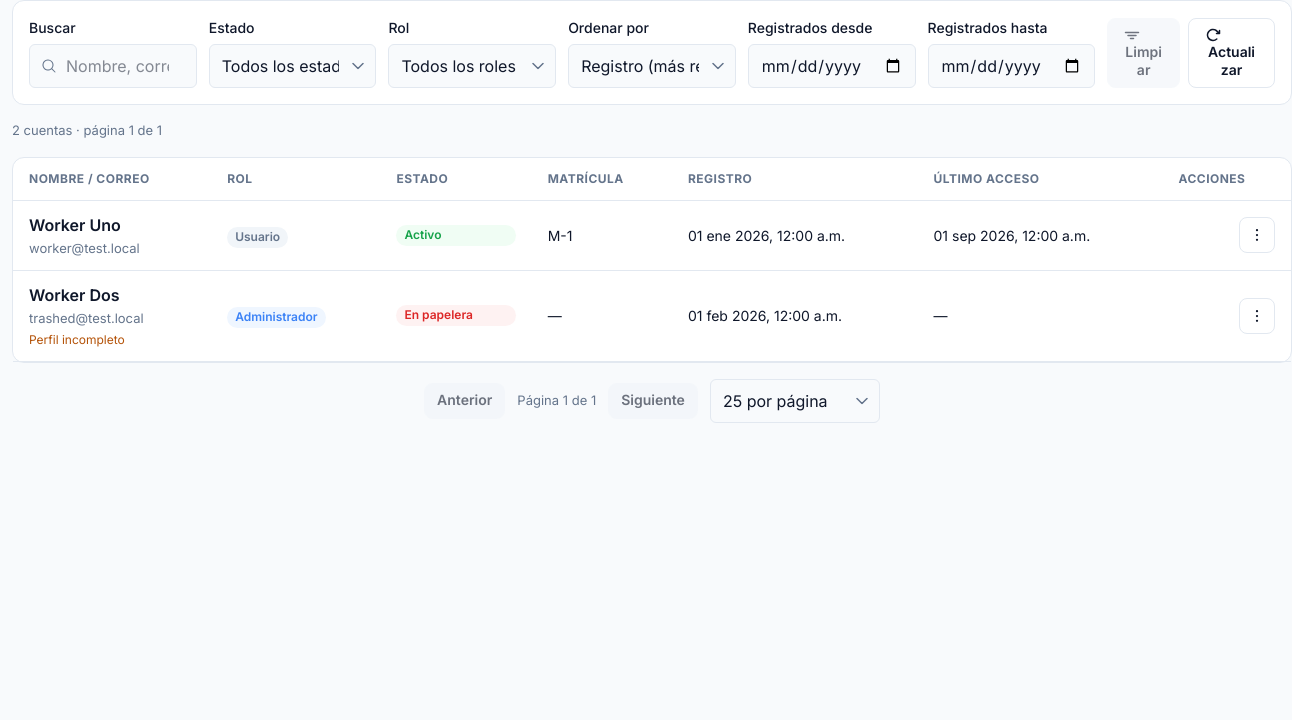
Test: AdminUsersScreen › el menú contextual se cierra con Escape (accesibilidad por teclado)
Click the button named "Acciones para Worker Uno" at (1257, 235), box [1239,217,1275,253]
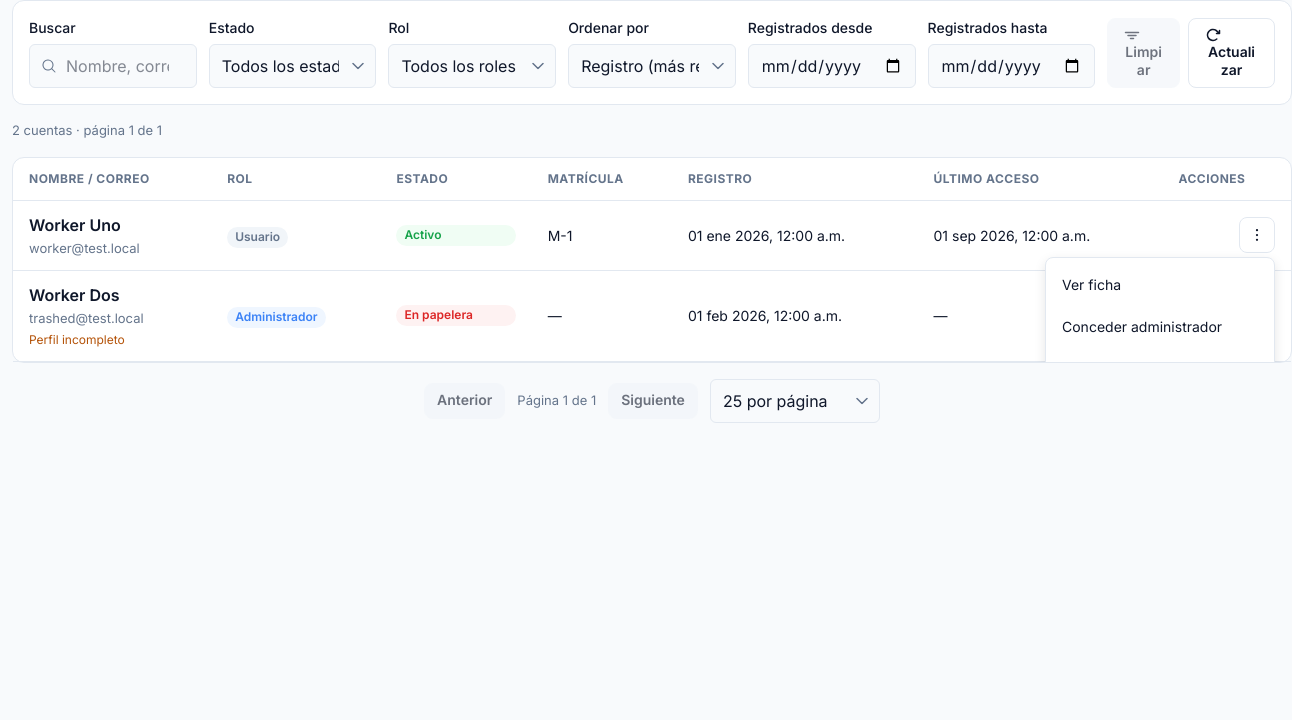
Result: the menu item "Ver ficha" is shown at [1052,264,1268,304]
Press Escape
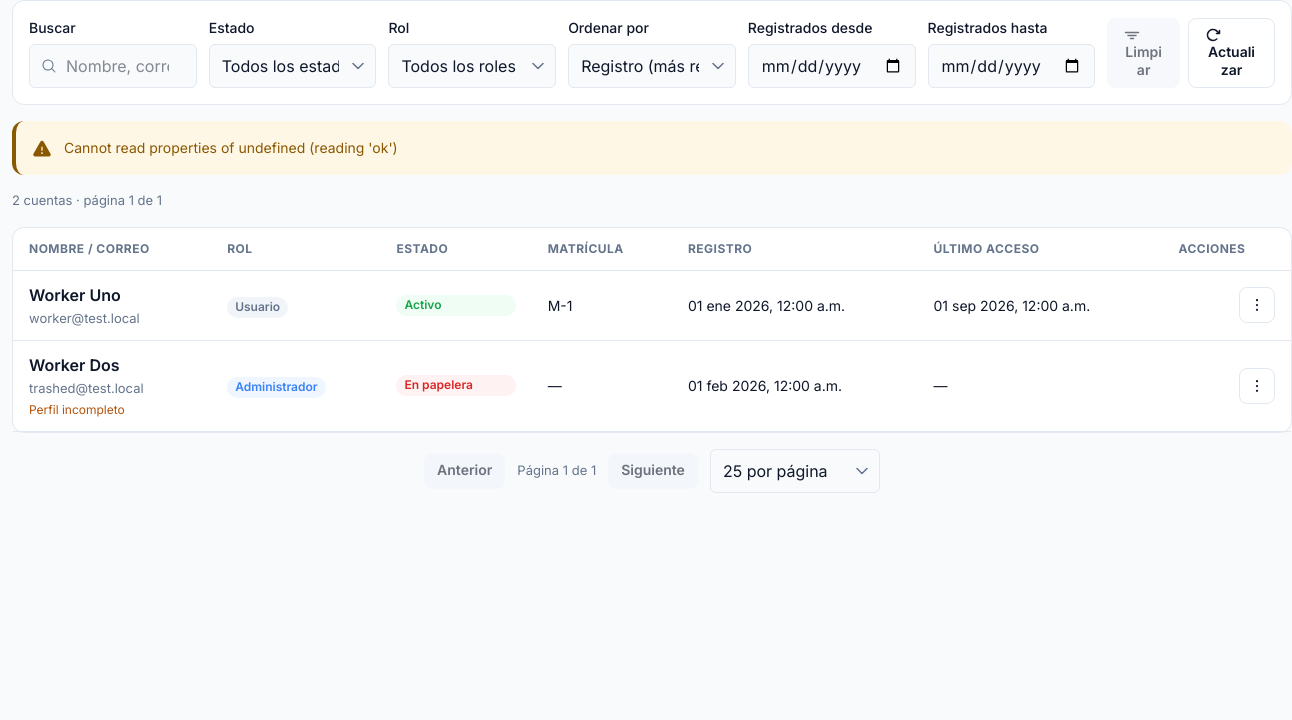
Result: no menu items are shown
